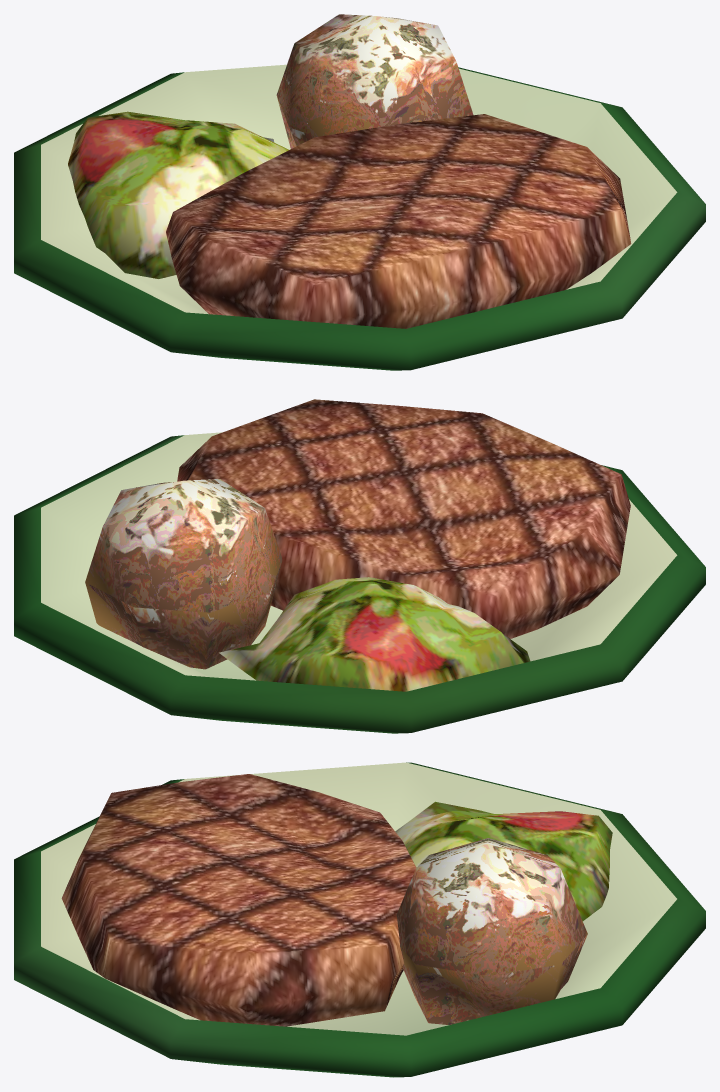
Rendered from steak.glb.
The picture shows the model from 3 angles, top to bottom: view 1: azimuth 30°, elevation 25°; view 2: azimuth 150°, elevation 25°; view 3: azimuth 270°, elevation 25°; orthographic projection.
Parts seen in each view (by area): view 1: Cube.003, Circle.004, Cube.005, Cube.004; view 2: Cube.003, Circle.004, Cube.004, Cube.005; view 3: Cube.003, Circle.004, Cube.004, Cube.005.
Boxes of the visible parts, <box> form: Cube.003: <box>166,114,631,328</box>; Circle.004: <box>14,64,705,370</box>; Cube.005: <box>68,111,288,278</box>; Cube.004: <box>276,14,473,148</box>; Cube.003: <box>177,399,630,638</box>; Circle.004: <box>14,432,705,733</box>; Cube.004: <box>85,479,282,669</box>; Cube.005: <box>219,577,530,691</box>; Cube.003: <box>61,774,416,1026</box>; Circle.004: <box>14,762,705,1077</box>; Cube.004: <box>396,838,587,1024</box>; Cube.005: <box>395,801,612,920</box>.
Bounding box in the file's own units: 0.397 × 0.1084 × 0.391.
4 materials, 4 textured.
